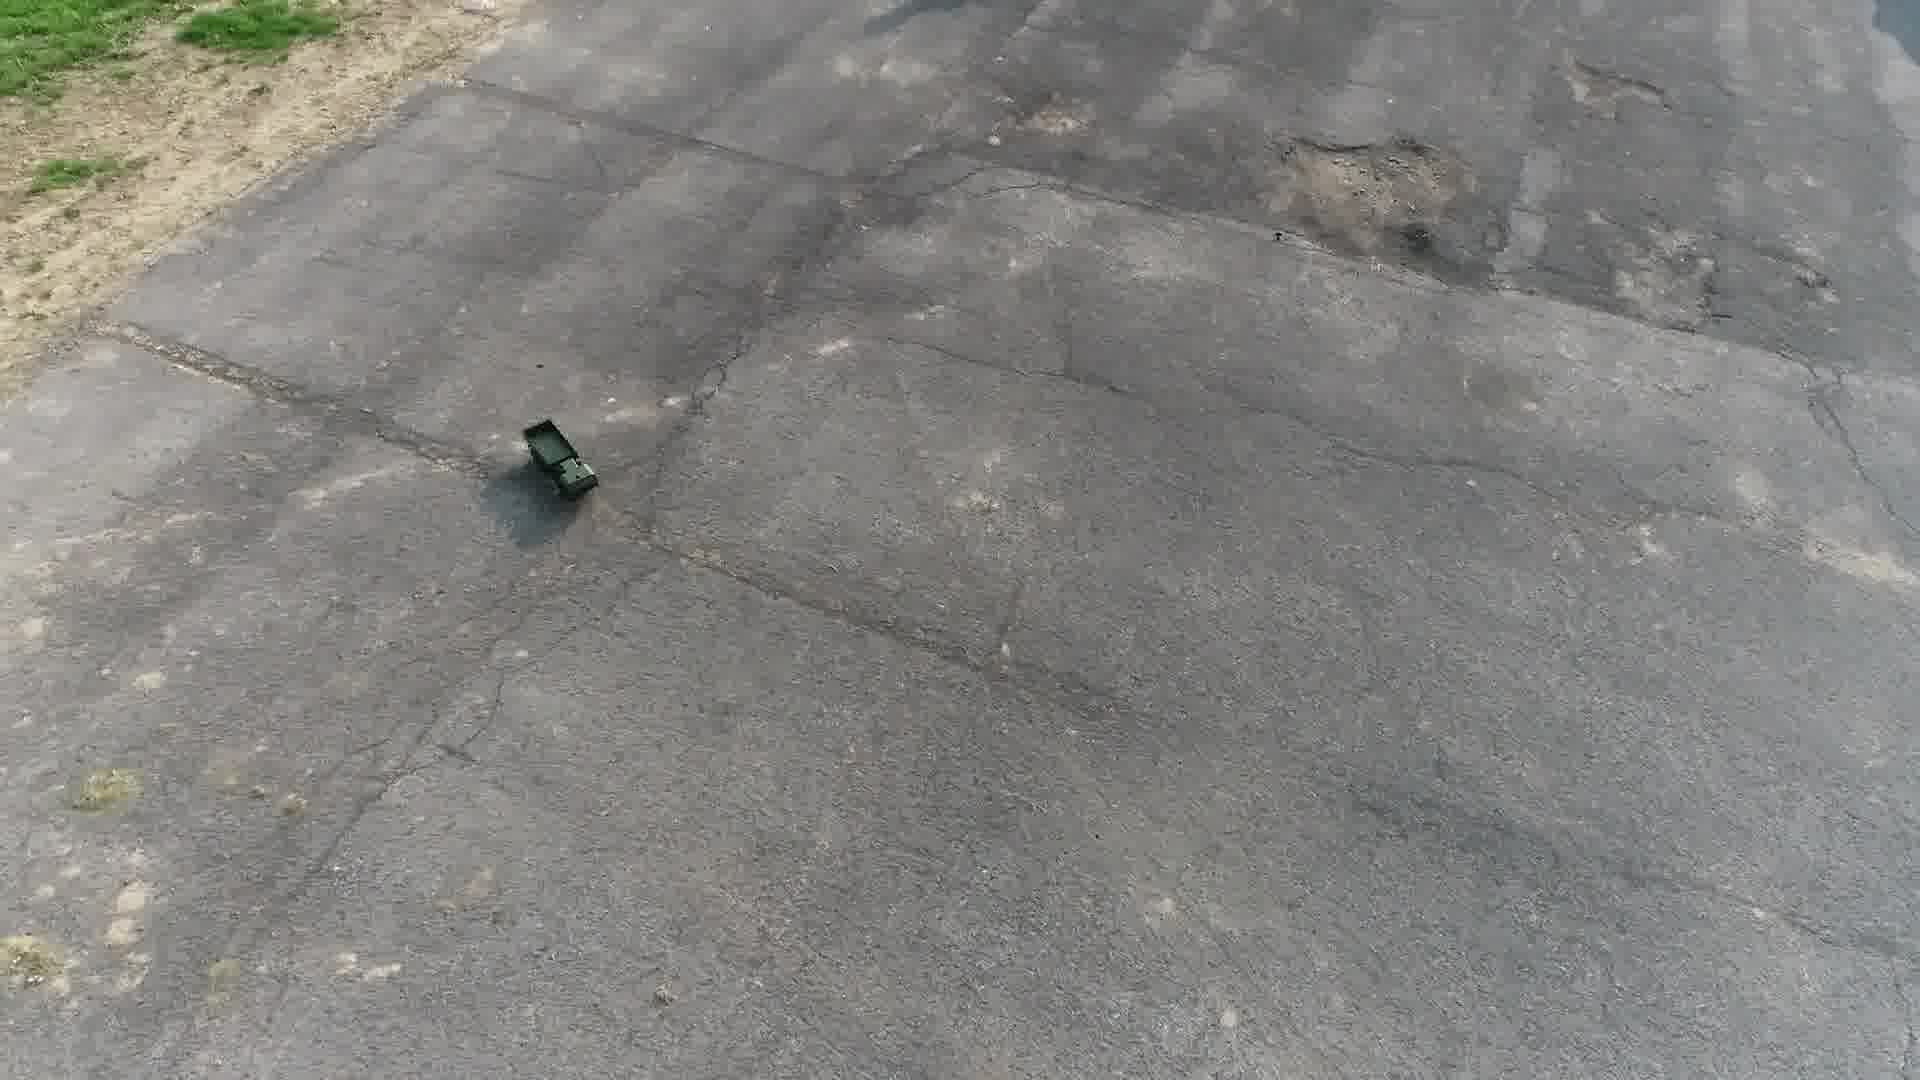transporter9: (506, 419, 603, 505)
